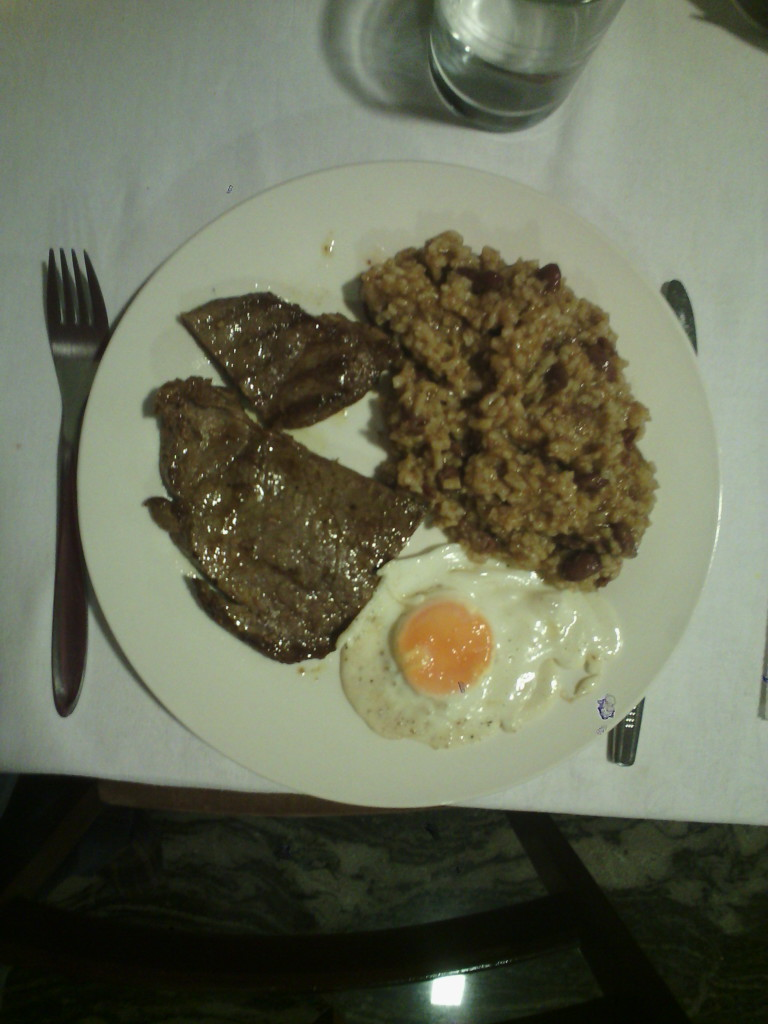81-100: (90, 163, 717, 808)
